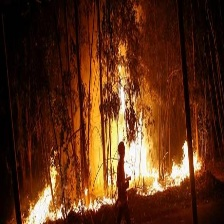fire: (123, 66, 200, 198), (16, 157, 117, 223)
